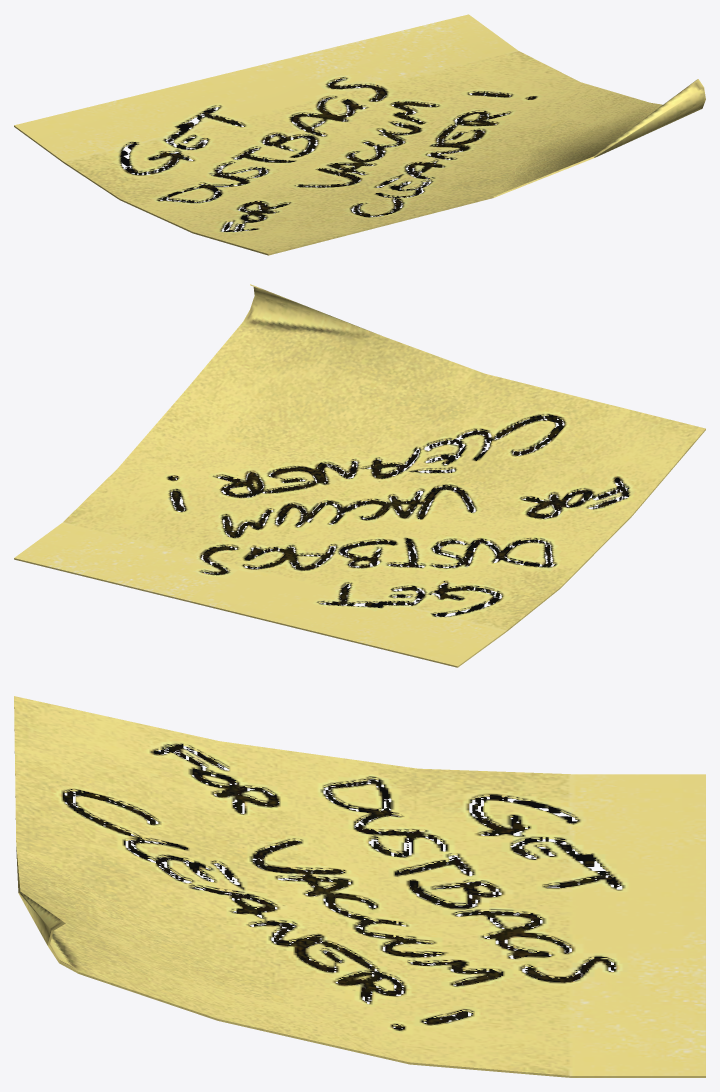
File: 00_05_post_it_note_dustbags.dae
The picture shows the model from 3 angles, top to bottom: view 1: azimuth 30°, elevation 25°; view 2: azimuth 150°, elevation 25°; view 3: azimuth 270°, elevation 25°; orthographic projection. The views are drawn at different scales.
Parts seen in each view (by area): view 1: polySurface1; view 2: polySurface1; view 3: polySurface1.
Boxes of the visible parts, x1=… form: polySurface1: x1=14, y1=14, x2=705, y2=255; polySurface1: x1=14, y1=284, x2=705, y2=667; polySurface1: x1=14, y1=696, x2=705, y2=1077.
Bounding box in the file's own units: 0.1208 × 0.028 × 0.1163.
